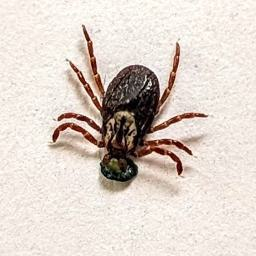Dermacentor variabilis: (48, 24, 208, 183)
